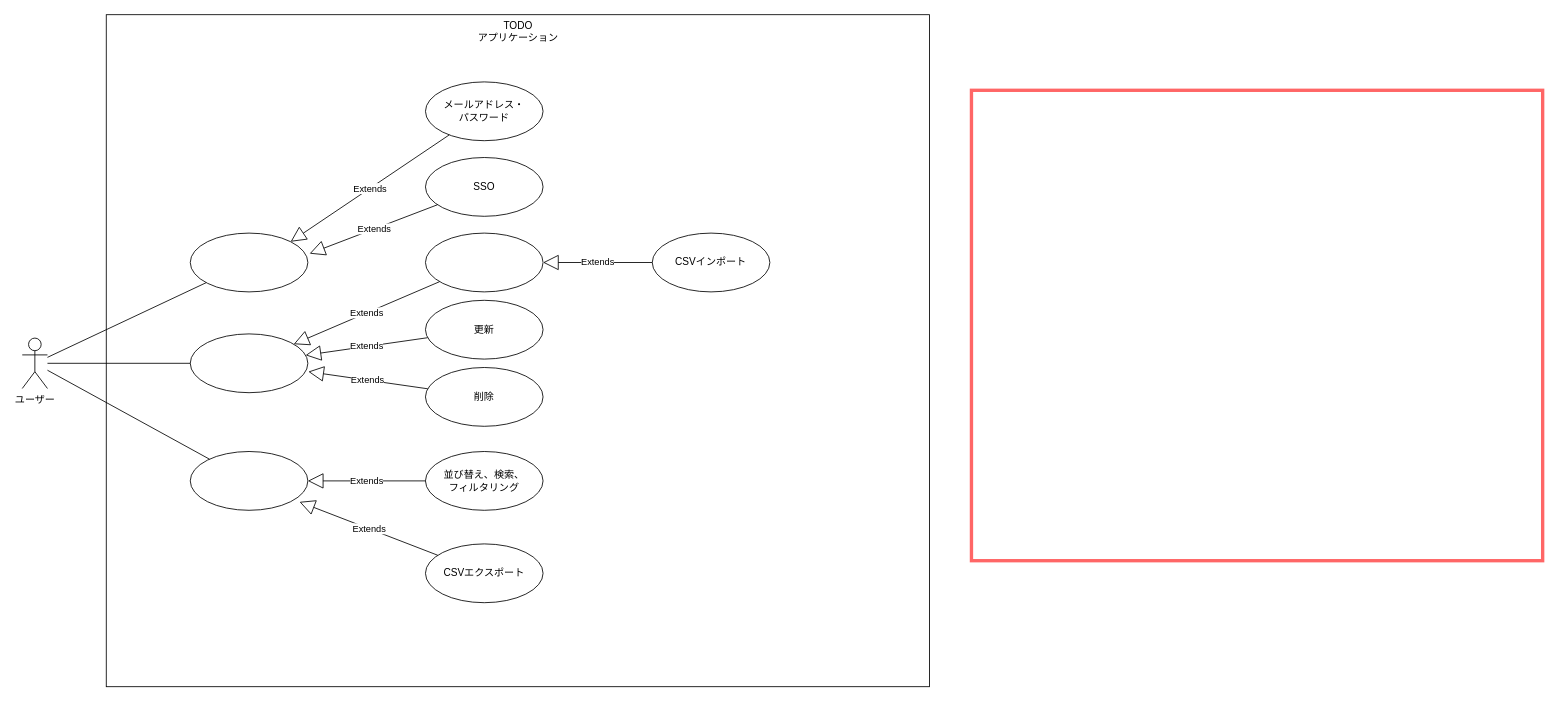
This 1558x701 diagram has some shape labels left out. Here are the shapes that lost their labels. From the top down, the box of each, then its label:
(189, 232, 308, 292): ユーザー登録・ ログインする
(425, 232, 543, 292): 追加
(969, 88, 1544, 562): 今回のスコープ
(189, 333, 308, 393): TODO管理
(189, 451, 308, 510): 自分の TODOを閲覧・取得
